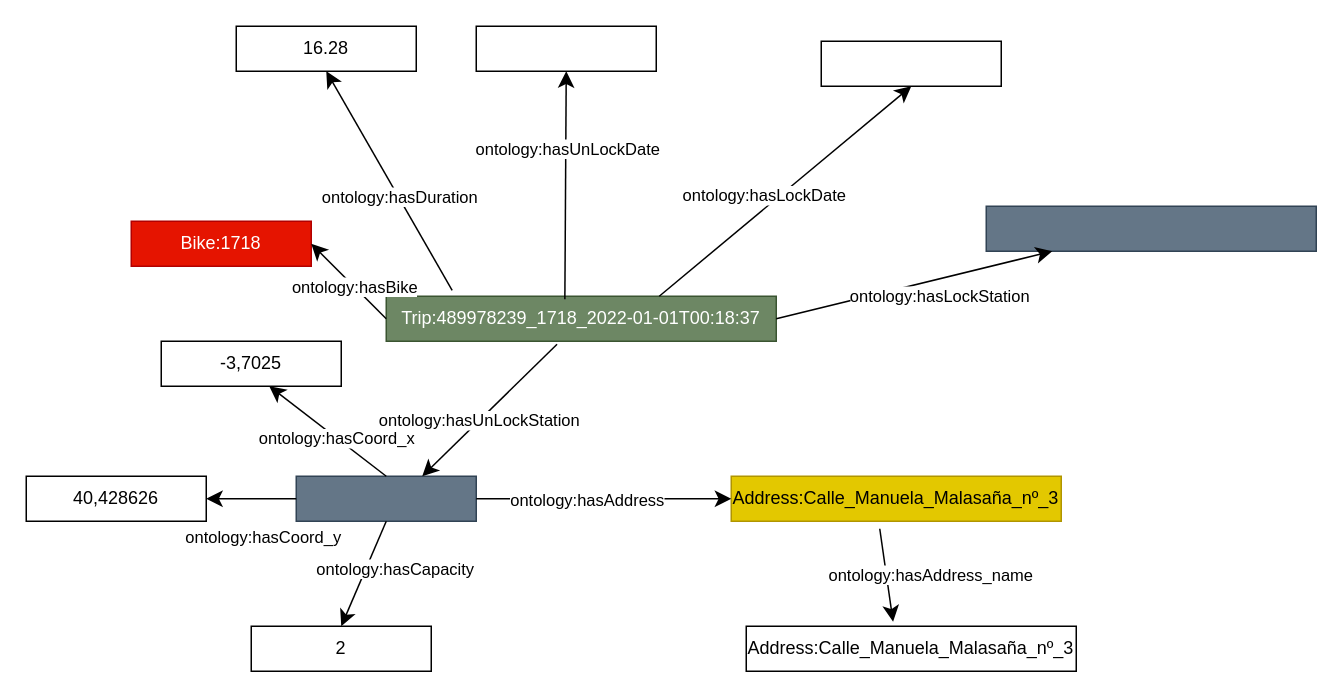
This 1343x698 diagram has some shape labels left out. The centre of each missing label's shape, as x and y in pixels:
"2022-01-01T00:02:20" goes at [565,48].
"2022-01-01T00:18:37" goes at [910,63].
"Station:10 - Marqués de la Ensenada" goes at [1150,228].
"Station:Malasaña" goes at [385,498].
